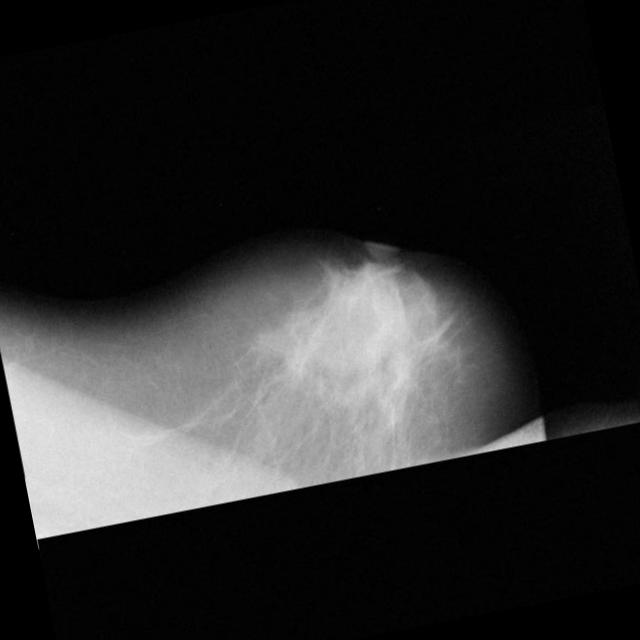SPIC: (282, 348, 308, 376)
